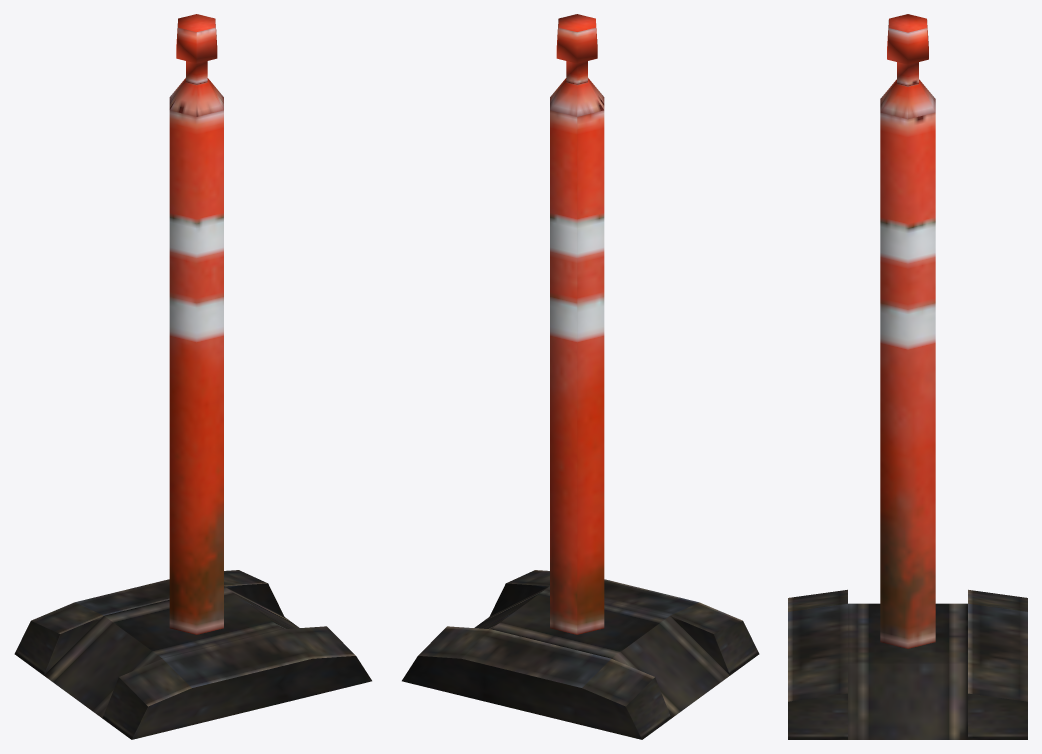
File: Model_Pillon.fbx
3 views of the same model, side by side, from view 1: azimuth 30°, elevation 25°; view 2: azimuth 150°, elevation 25°; view 3: azimuth 270°, elevation 25° (orthographic). The views are drawn at different scales.
Parts seen in each view (by area): view 1: roadstuff; view 2: roadstuff; view 3: roadstuff.
Boxes of the visible parts, x1,y1,x2,y2 form: roadstuff: (14,14,371,739); roadstuff: (402,14,759,739); roadstuff: (788,14,1027,739).
Bounding box in the file's own units: 49.68 × 127 × 41.91.
